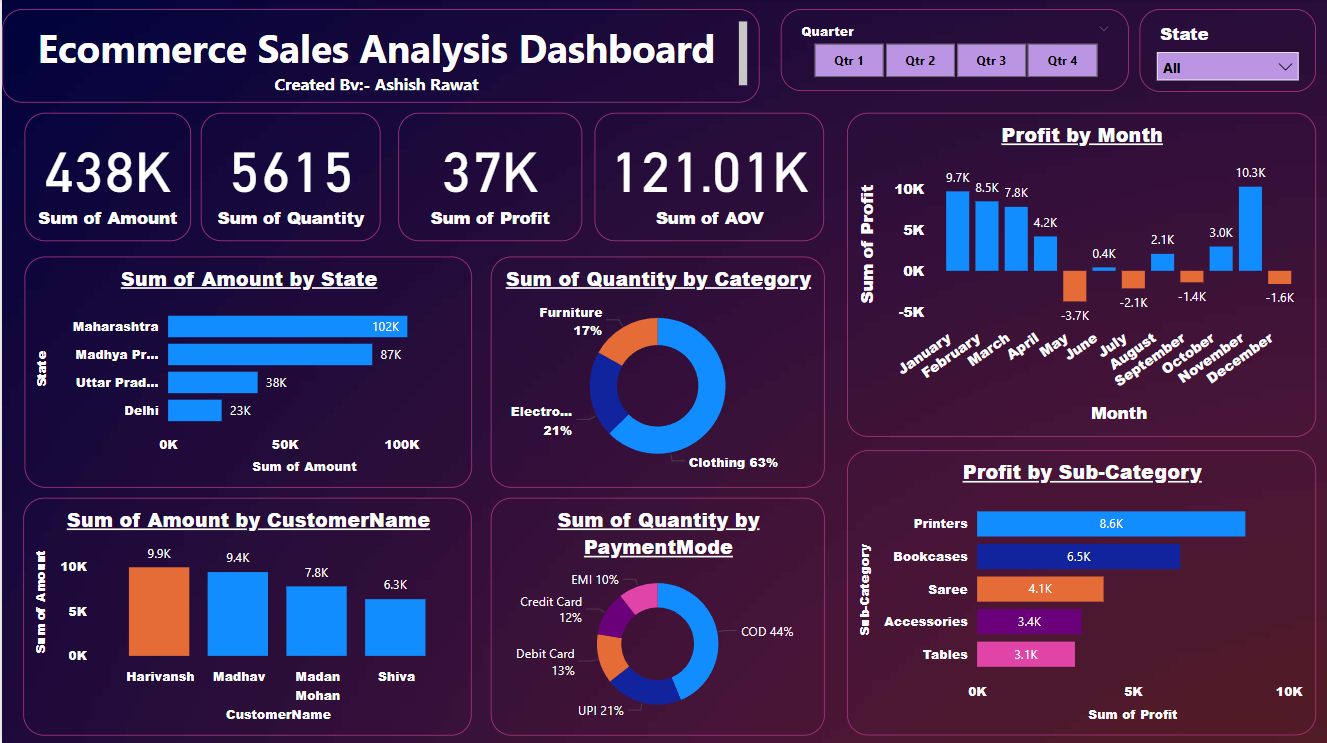

The dashboard page shown, as its layout file describes it:
{"tool":"powerbi","page":{"name":"Page 1","canvas":[1280,720],"ordinal":0},"visuals":[{"type":"textbox","box":[0,9.7,731.1,90.5],"z":0},{"type":"columnChart","title":"Profit by Month","fields":{"Category":["Orders (1).Order Date.Variation.Date Hierarchy.Month"],"Y":["Details (1).Profit"]},"box":[815.6,109.8,452.4,312.5],"z":1000},{"type":"barChart","title":"Profit by Sub-Category","fields":{"Category":["Details (1).Sub-Category"],"Y":["Details (1).Profit"],"Series":["Details (1).Sub-Category"]},"box":[815.6,435.5,452.4,275.1],"z":2000},{"type":"donutChart","fields":{"Category":["Details (1).Category"],"Y":["Details (1).Quantity"]},"box":[471.7,248.5,322.1,223.2],"z":3000},{"type":"donutChart","fields":{"Category":["Details (1).PaymentMode"],"Y":["Details (1).Quantity"]},"box":[471.7,481.4,322.1,229.2],"z":4000},{"type":"barChart","fields":{"Category":["Orders (1).State"],"Y":["Details (1).Amount"]},"box":[21.7,248.5,431.9,223.2],"z":5000},{"type":"columnChart","fields":{"Category":["Orders (1).CustomerName"],"Y":["Details (1).Amount"]},"box":[20.5,481.4,433.1,229.2],"z":6000},{"type":"card","fields":{"Values":["Details (1).Amount"]},"box":[21.7,109.8,160.5,124.3],"z":7000},{"type":"card","fields":{"Values":["Details (1).Quantity"]},"box":[191.8,109.8,173.7,124.3],"z":8000},{"type":"card","fields":{"Values":["Details (1).Profit"]},"box":[382.4,109.8,177.3,124.3],"z":9000},{"type":"card","fields":{"Values":["Details (1).AOV"]},"box":[571.9,109.8,222,124.3],"z":10000},{"type":"slicer","fields":{"Values":["Orders (1).Order Date.Variation.Date Hierarchy.Quarter"]},"box":[752,9.6,336.2,79.6],"z":11000},{"type":"slicer","fields":{"Values":["Orders (1).State"]},"box":[1097.9,9.7,170.1,79.6],"z":12000}]}

Visuals, with their boxes in screenshot pixels (x1, y1, x2, y2), scaled from the page's 1280x720 canvas onto the 1327x743 screenshot:
textbox: (left=0, top=10, right=758, bottom=103)
"Profit by Month" columnChart: (left=846, top=113, right=1315, bottom=436)
"Profit by Sub-Category" barChart: (left=846, top=449, right=1315, bottom=733)
donutChart - Details (1).Category x Details (1).Quantity: (left=489, top=256, right=823, bottom=487)
donutChart - Details (1).PaymentMode x Details (1).Quantity: (left=489, top=497, right=823, bottom=733)
barChart - Orders (1).State x Details (1).Amount: (left=22, top=256, right=470, bottom=487)
columnChart - Orders (1).CustomerName x Details (1).Amount: (left=21, top=497, right=470, bottom=733)
card - Details (1).Amount: (left=22, top=113, right=189, bottom=242)
card - Details (1).Quantity: (left=199, top=113, right=379, bottom=242)
card - Details (1).Profit: (left=396, top=113, right=580, bottom=242)
card - Details (1).AOV: (left=593, top=113, right=823, bottom=242)
slicer - Orders (1).Order Date.Variation.Date Hierarchy.Quarter: (left=780, top=10, right=1128, bottom=92)
slicer - Orders (1).State: (left=1138, top=10, right=1315, bottom=92)
